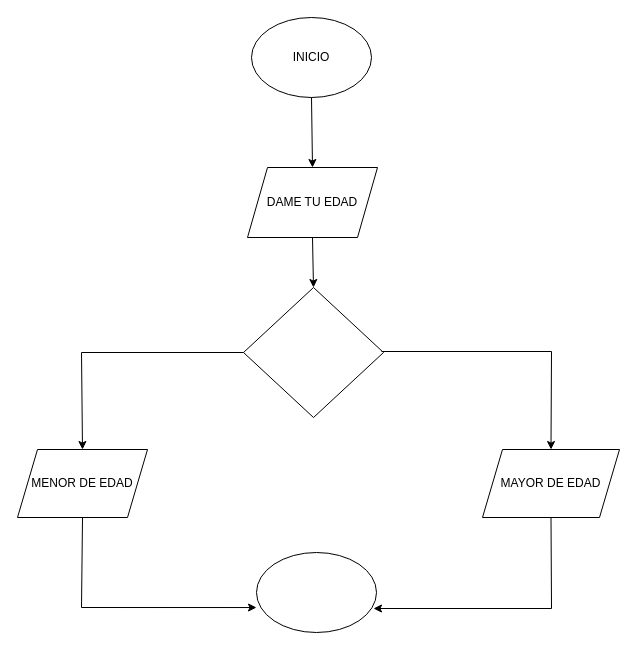
Some shapes in this 637 by 650 pixel diagram are drawn without their labels. Here are the shapes that lost their labels. From the top down, the centre of each, then its label:
At pixel 313 352: "EDAD <18".
At pixel 316 592: "FIN".
